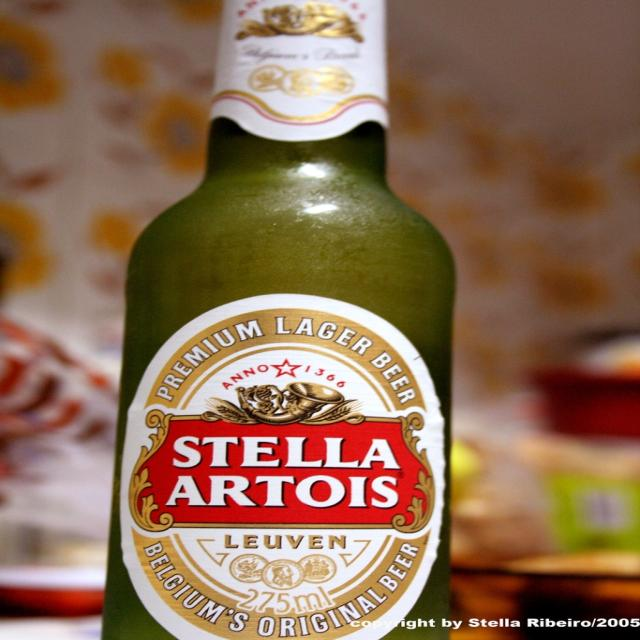stellaartois: (128, 308, 436, 640)
